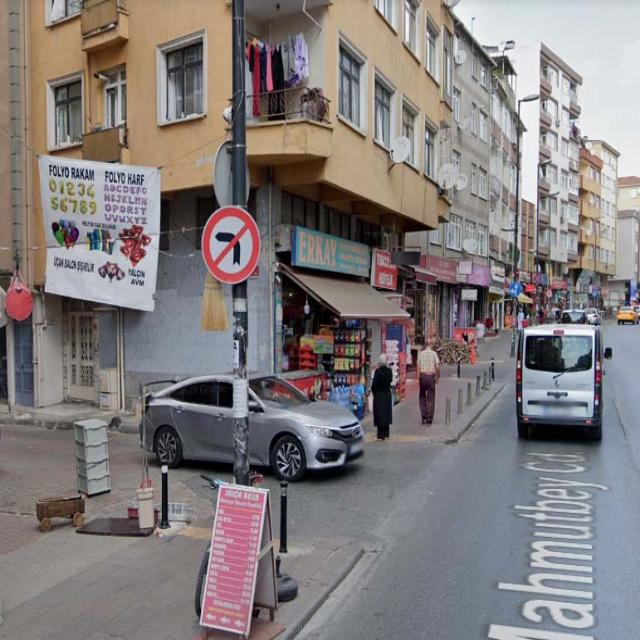soladonulmez: (202, 207, 260, 284)
